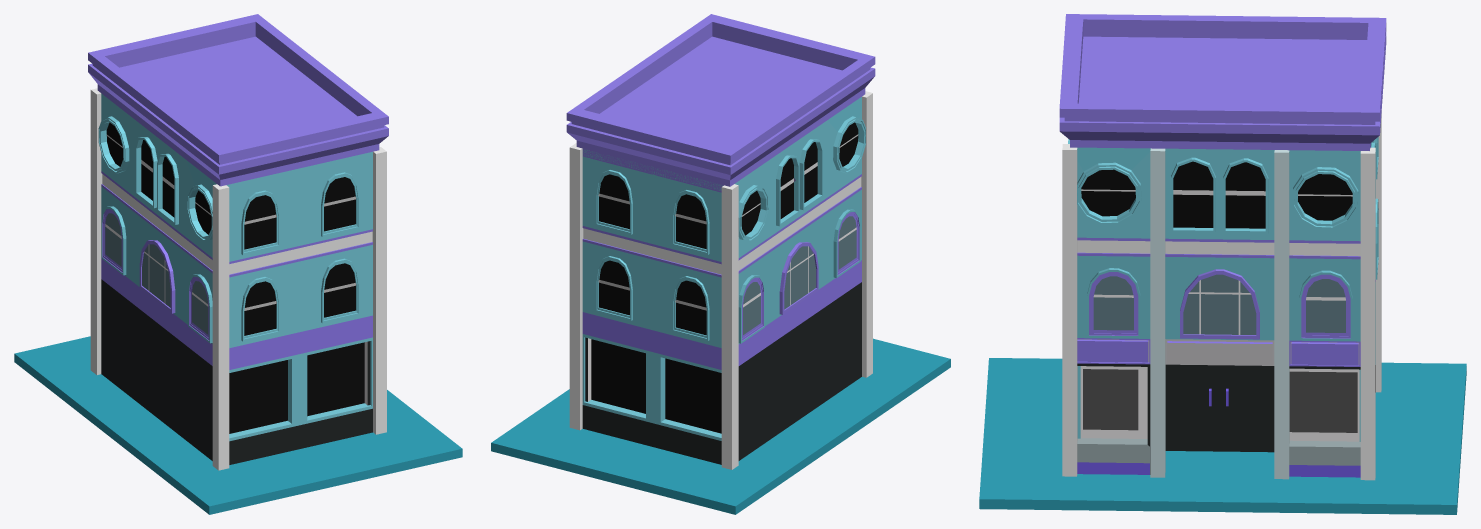
3 views of the same model, side by side, from view 1: azimuth 30°, elevation 25°; view 2: azimuth 150°, elevation 25°; view 3: azimuth 270°, elevation 25° (orthographic). The views are drawn at different scales.
Visible parts, largest first — view 1: Object_55; view 2: Object_55; view 3: Object_55.
Boxes of the visible parts, x1,y1,x2,y2 form: Object_55: (14, 14, 462, 514); Object_55: (491, 14, 950, 514); Object_55: (979, 14, 1466, 514).
Bounding box in the file's own units: 1.16 × 1.39 × 1.62.
Materials: 1 (1 with a texture image).
